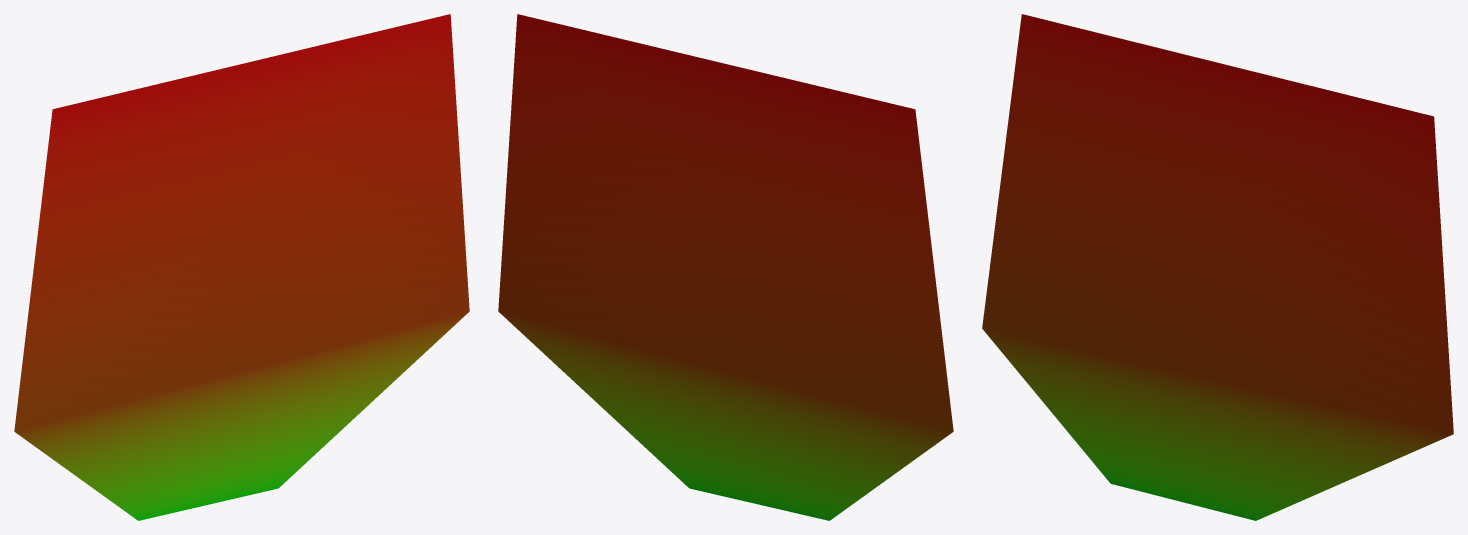
The model's file is Basil_LOD5_Var6_vgpochzia.fbx.
The picture shows the model from 3 angles, left to right: view 1: azimuth 30°, elevation 25°; view 2: azimuth 150°, elevation 25°; view 3: azimuth 330°, elevation 25°; orthographic projection. The views are drawn at different scales.
Visible parts, largest first — view 1: _i0zp_Var6_LOD5; view 2: _i0zp_Var6_LOD5; view 3: _i0zp_Var6_LOD5.
Part boxes in pixels (<box>): _i0zp_Var6_LOD5: <box>14,14,469,520</box>; _i0zp_Var6_LOD5: <box>498,14,953,520</box>; _i0zp_Var6_LOD5: <box>982,14,1453,520</box>.
Size of the model in its own units: 27.48 by 25.05 by 4.08e-06.
